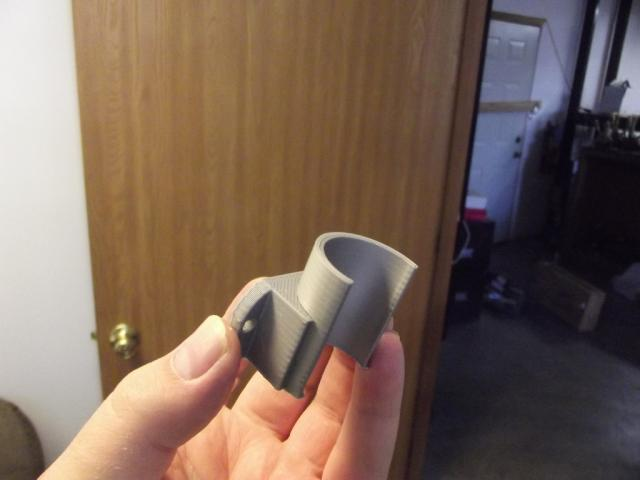Door-handle: (110, 324, 140, 359)
